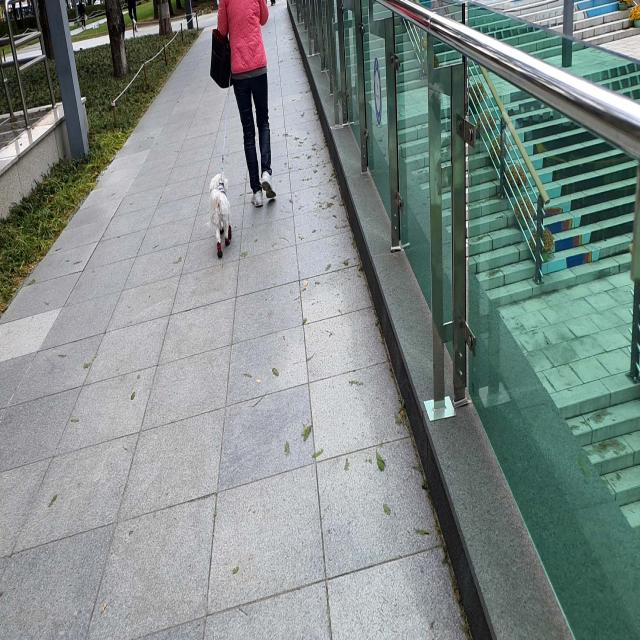Leashed_Dog: (206, 50, 252, 262)
